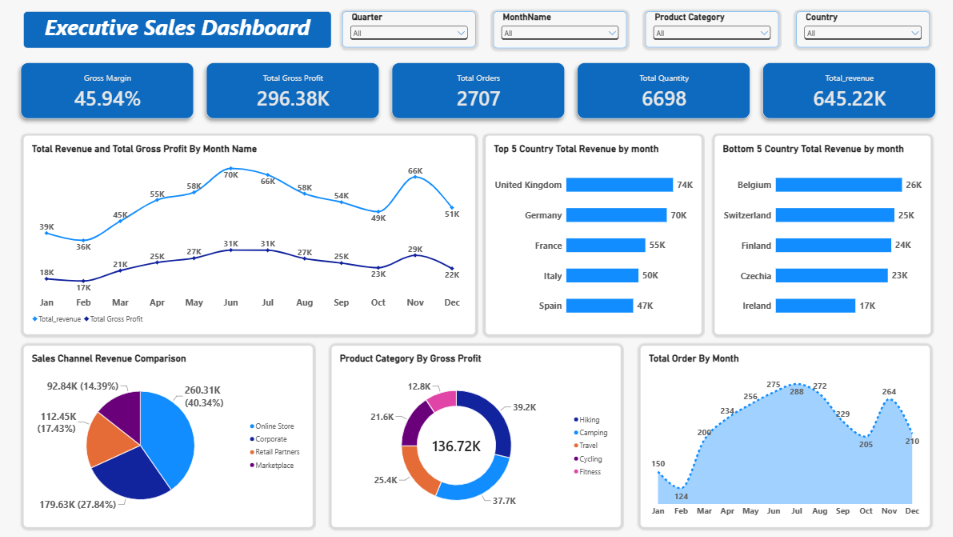

This screenshot's page, from the dashboard's own definition file:
{"tool":"powerbi","page":{"name":"Page 1","canvas":[1920,1080],"ordinal":0},"visuals":[{"type":"slicer","fields":{"Values":["DateTable.Quarter"]},"box":[688.3,26.7,266.1,72.2],"z":0,"group":"g1"},{"type":"cardVisual","fields":{"Data":["All_Measures.Gross Margin","All_Measures.Total Gross Profit","All_Measures.Total Orders","All_Measures.Total Quantity","All_Measures.Total_revenue"]},"box":[31.2,116.7,1858.3,137.5],"z":0},{"type":"slicer","fields":{"Values":["DateTable.MonthName"]},"box":[991.3,26.7,266.1,73.3],"z":1000,"group":"g1"},{"type":"clusteredBarChart","title":"Top 5 Country Total Revenue by month ","fields":{"Category":["SalesData.Country"],"Y":["All_Measures.Total_revenue"]},"box":[974,274,432.4,398],"z":1000},{"type":"textbox","box":[50.6,26.2,615.7,73.3],"z":2000},{"type":"slicer","fields":{"Values":["SalesData.Product Category"]},"box":[1294.2,26.7,266.1,72.2],"z":2000,"group":"g1"},{"type":"group","id":"g1","title":"Group 1","box":[688.3,26.7,1175,73.3],"z":3000},{"type":"slicer","fields":{"Values":["SalesData.Country"]},"box":[1597.2,26.7,266.1,72.2],"z":3000,"group":"g1"},{"type":"lineChart","title":"Total Revenue and Total Gross Profit By Month Name","fields":{"Category":["DateTable.MonthName"],"Y":["All_Measures.Total_revenue","All_Measures.Total Gross Profit"]},"box":[50,274,904,398],"z":4000},{"type":"clusteredBarChart","title":"Bottom 5 Country Total Revenue by month ","fields":{"Category":["SalesData.Country"],"Y":["All_Measures.Total_revenue"]},"box":[1431.6,274,432.4,398],"z":5000},{"type":"pieChart","title":"Sales Channel Revenue Comparison","fields":{"Category":["SalesData.Sales Channel"],"Y":["All_Measures.Total_revenue"]},"box":[50,694,579.4,364],"z":6000},{"type":"donutChart","title":"Product Category By Gross Profit","fields":{"Category":["SalesData.Product Category"],"Y":["All_Measures.Total Gross Profit"]},"box":[666.2,694,579.4,364],"z":7000},{"type":"filledMap","title":"Top 5 Country Total Revenue by month ","fields":{"Category":["SalesData.Country"]},"box":[1284.6,694,579.4,364],"z":8000}]}

Visuals, with their boxes in screenshot pixels (x1, y1, x2, y2), scaled from the page's 1920x1080 canvas onto the 953x537 screenshot:
slicer - DateTable.Quarter: 342,13,474,49
cardVisual - All_Measures.Gross Margin x All_Measures.Total Gross Profit: 15,58,938,126
slicer - DateTable.MonthName: 492,13,624,50
"Top 5 Country Total Revenue by month " clusteredBarChart: 483,136,698,334
textbox: 25,13,331,49
slicer - SalesData.Product Category: 642,13,774,49
"Group 1" group: 342,13,925,50
slicer - SalesData.Country: 793,13,925,49
"Total Revenue and Total Gross Profit By Month Name" lineChart: 25,136,474,334
"Bottom 5 Country Total Revenue by month " clusteredBarChart: 711,136,925,334
"Sales Channel Revenue Comparison" pieChart: 25,345,312,526
"Product Category By Gross Profit" donutChart: 331,345,618,526
"Top 5 Country Total Revenue by month " filledMap: 638,345,925,526
